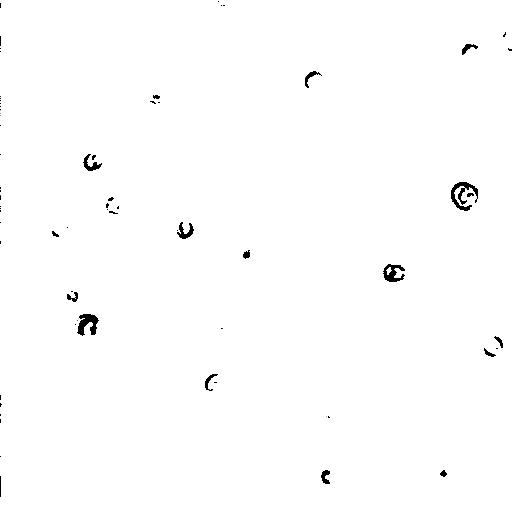micro-algae: (43, 209, 76, 245), (69, 316, 103, 347), (448, 181, 481, 211), (230, 237, 259, 265), (430, 461, 457, 487), (459, 37, 485, 63), (103, 194, 131, 217), (481, 334, 505, 357), (382, 261, 407, 282), (81, 151, 105, 172), (75, 316, 99, 337), (303, 69, 325, 91), (175, 217, 195, 240), (0, 397, 17, 422), (203, 372, 223, 391), (500, 25, 511, 51), (320, 467, 335, 486), (213, 0, 234, 7)
